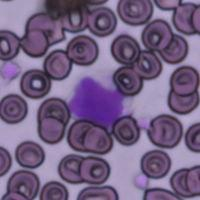M: (66, 72, 130, 128)
